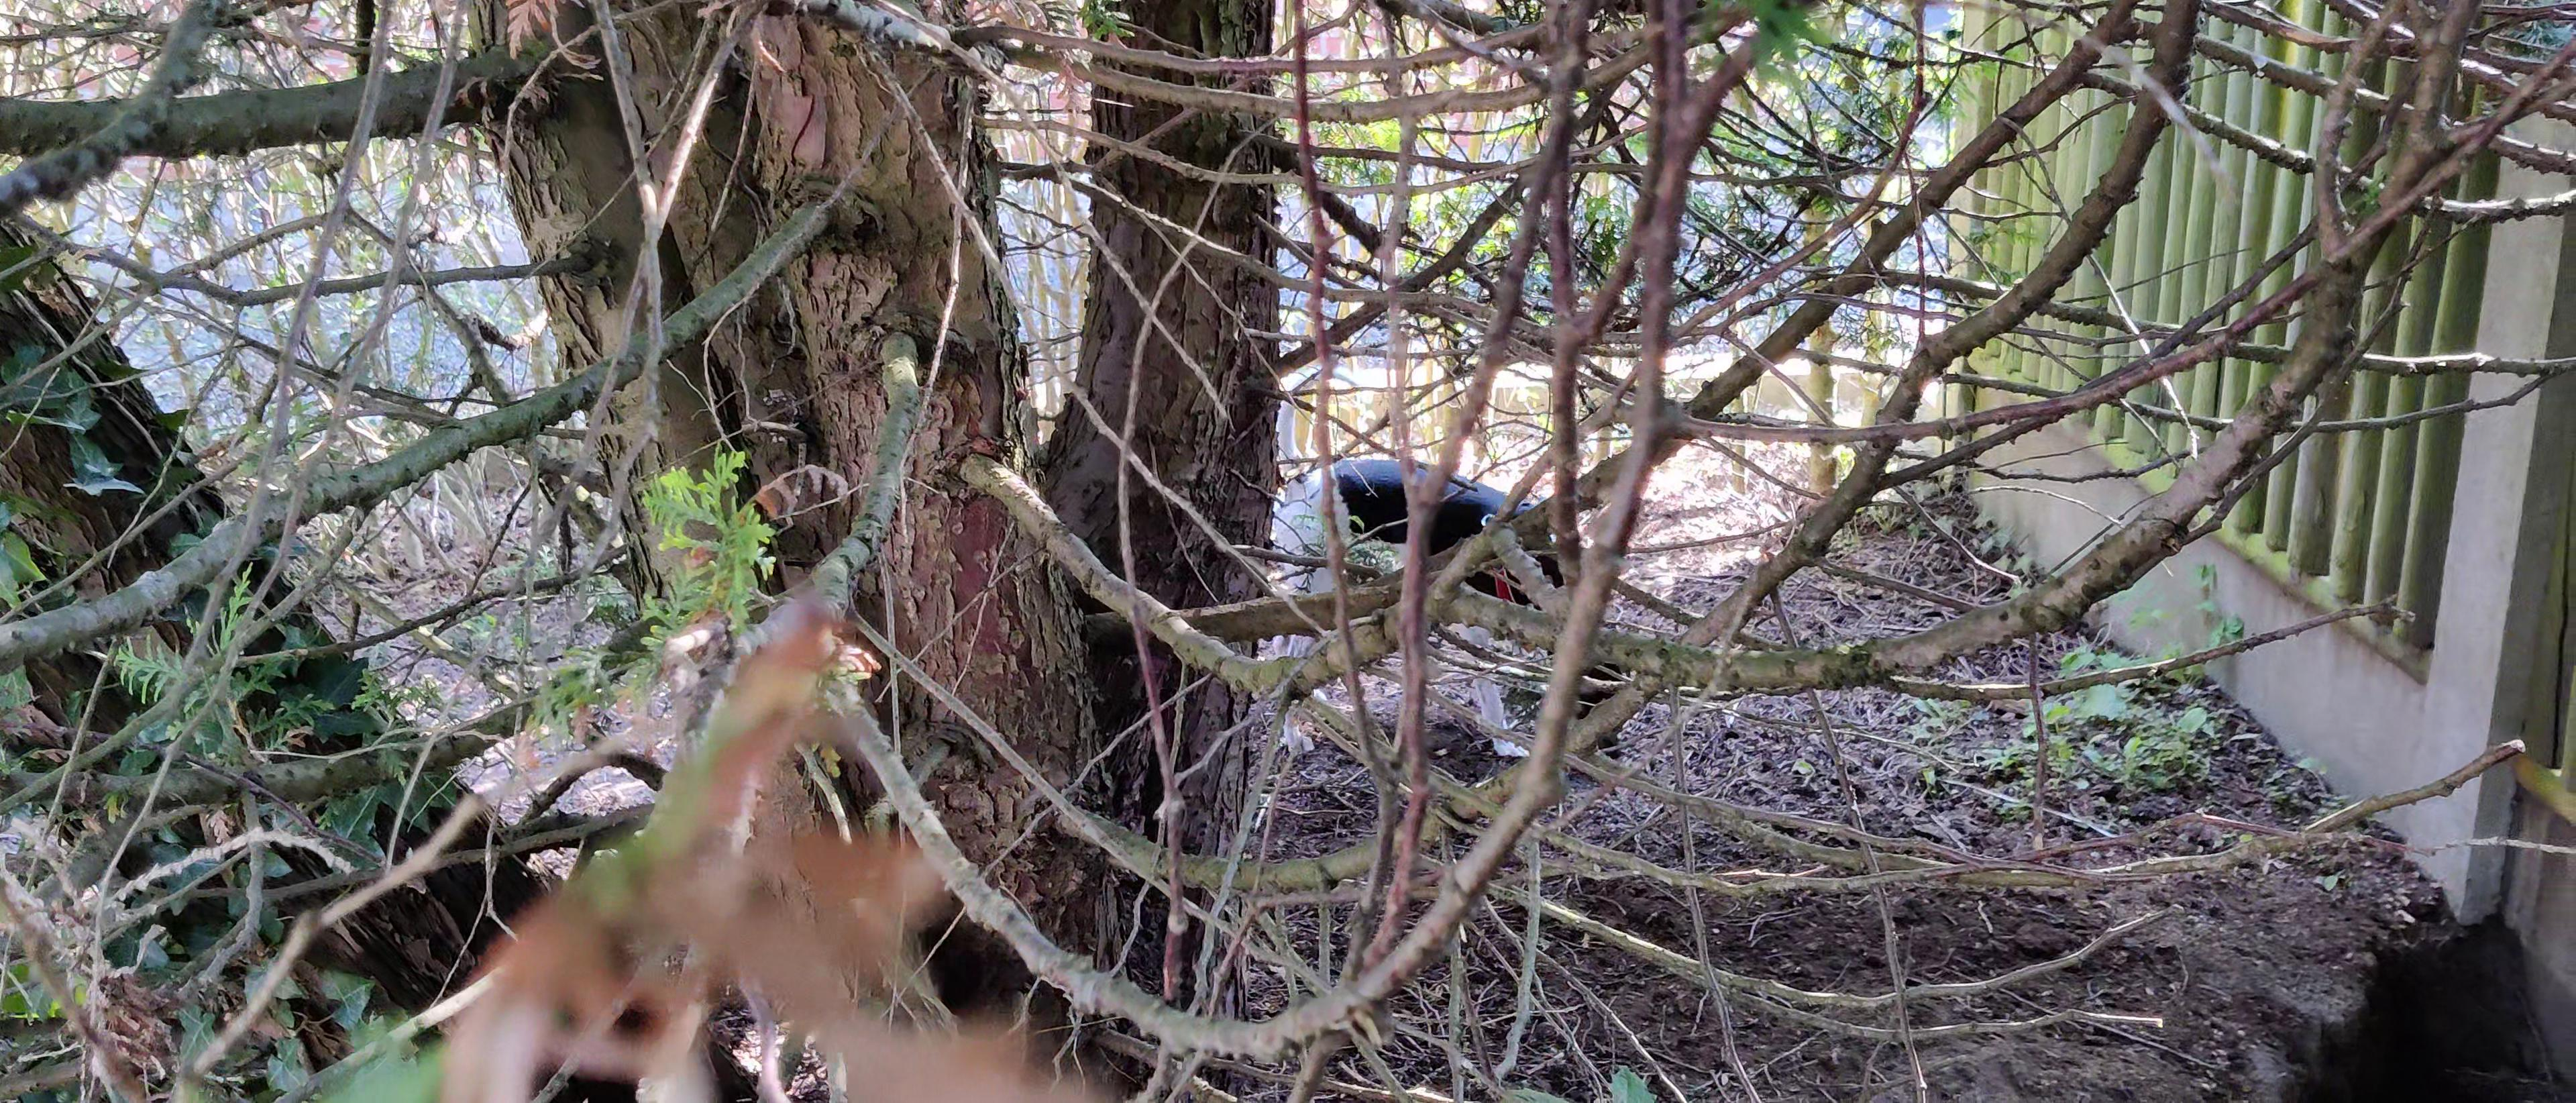Dog: (1270, 355, 1640, 778)
